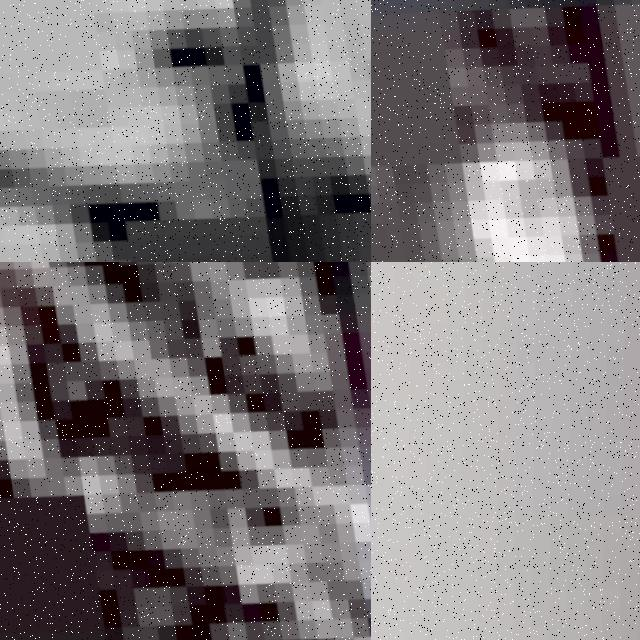drone: (0, 262, 371, 640), (0, 0, 371, 262), (371, 0, 640, 262)
